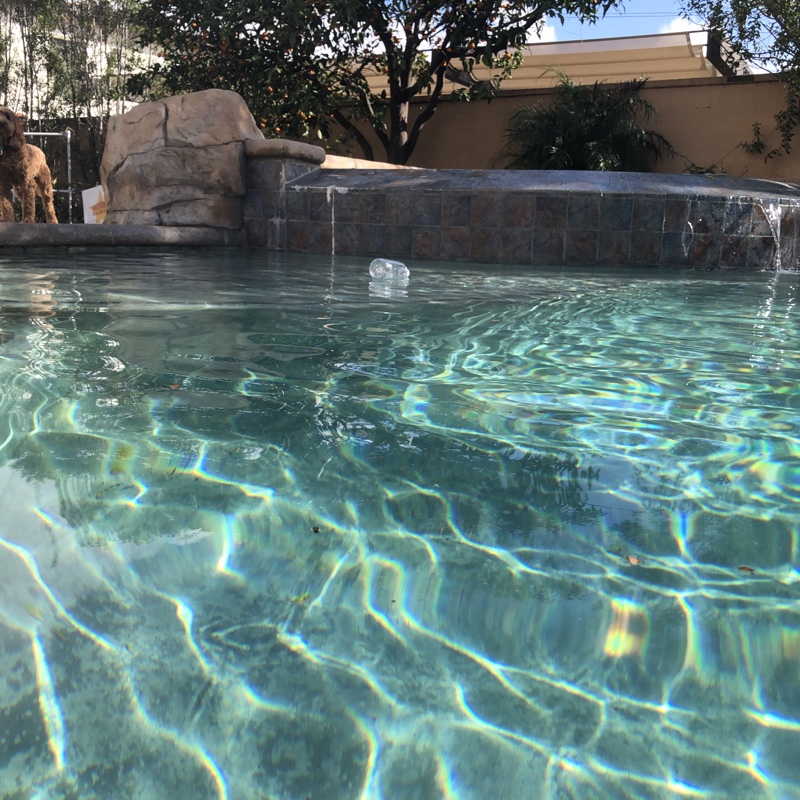Plastic Bottle: (361, 250, 414, 290)
